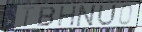0: (117, 3, 135, 27)
B: (36, 6, 58, 27)
H: (57, 5, 78, 27)
N: (75, 4, 99, 28)
T: (21, 6, 36, 29)
U: (95, 4, 118, 27)
